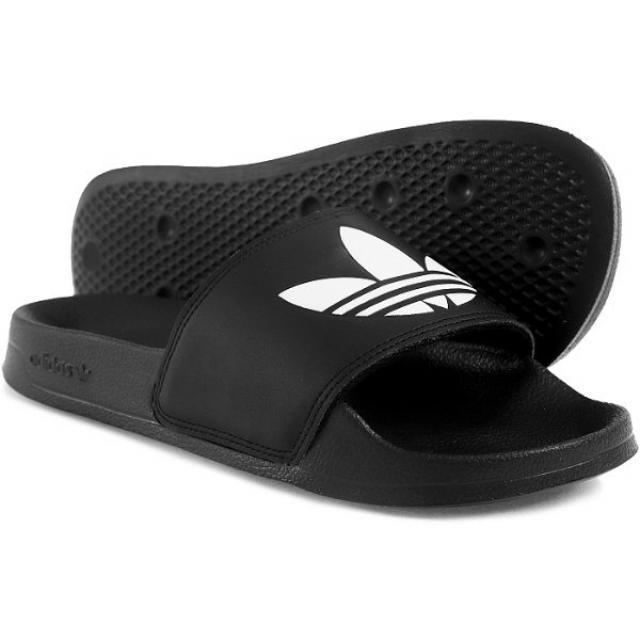Adidas: (272, 215, 488, 345)
